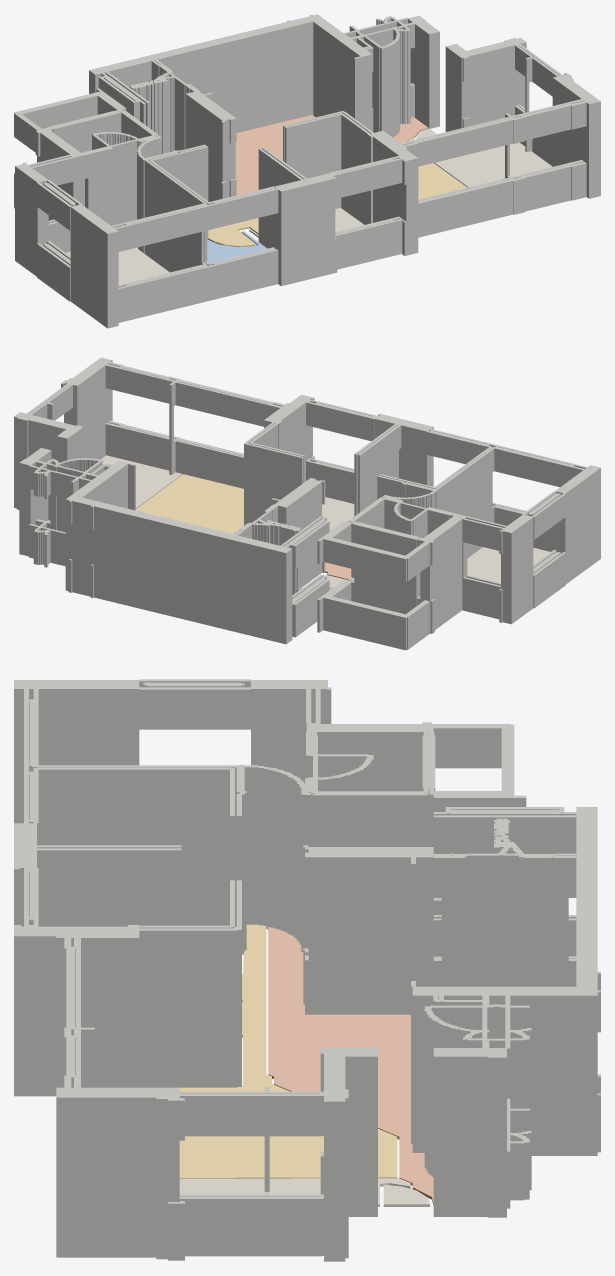
3 renders of one model, top to bottom at view 1: azimuth 30°, elevation 25°; view 2: azimuth 150°, elevation 25°; view 3: azimuth 270°, elevation 25°, orthographic. The views are drawn at different scales.
Visible parts, largest first — view 1: walls, room:kitchen:1, room:other:3, room:living:2, room:other:14, room:bedroom:4, room:other:15; view 2: walls, room:living:2, room:other:3, room:other:14, room:other:15; view 3: walls, room:kitchen:1, room:living:2, room:other:3, room:other:9.
Part boxes in pixels (left/top/right/bottom): walls: left=14, top=14, right=600, bottom=328; room:kitchen:1: left=235, top=115, right=428, bottom=195; room:other:3: left=408, top=138, right=552, bottom=187; room:living:2: left=208, top=163, right=467, bottom=246; room:other:14: left=66, top=247, right=169, bottom=284; room:bedroom:4: left=207, top=231, right=266, bottom=262; room:other:15: left=249, top=208, right=363, bottom=237; walls: left=14, top=357, right=600, bottom=650; room:living:2: left=136, top=474, right=243, bottom=533; room:other:3: left=101, top=455, right=182, bottom=508; room:other:14: left=467, top=547, right=550, bottom=582; room:other:15: left=322, top=497, right=354, bottom=531; walls: left=14, top=679, right=600, bottom=1261; room:kitchen:1: left=268, top=927, right=433, bottom=1205; room:living:2: left=179, top=924, right=397, bottom=1178; room:other:3: left=179, top=1178, right=410, bottom=1206; room:other:9: left=383, top=1184, right=429, bottom=1206.
Bounding box in the file's own units: 15.84 × 2.8 × 9.31.
